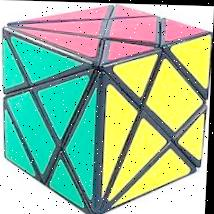cube: (0, 1, 211, 214)
